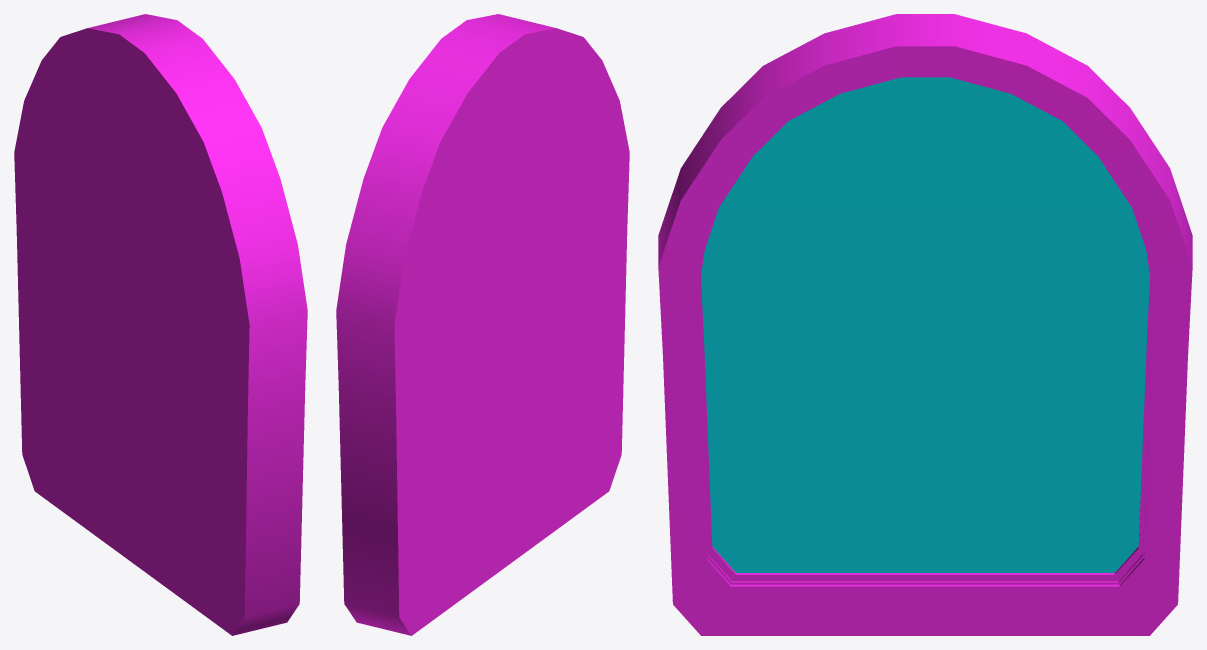
The model's file is mirror.glb.
3 renders of one model, left to right at view 1: azimuth 30°, elevation 25°; view 2: azimuth 150°, elevation 25°; view 3: azimuth 270°, elevation 25°, orthographic. The views are drawn at different scales.
Visible parts, largest first — view 1: Cube; view 2: Cube; view 3: Cube.001, Cube.
Boxes of the visible parts, bbox=[...] form: Cube: bbox=[14, 14, 307, 635]; Cube: bbox=[336, 14, 629, 635]; Cube.001: bbox=[701, 77, 1149, 572]; Cube: bbox=[658, 14, 1192, 635].
Bounding box in the file's own units: 0.4924 × 4.21 × 3.45.
